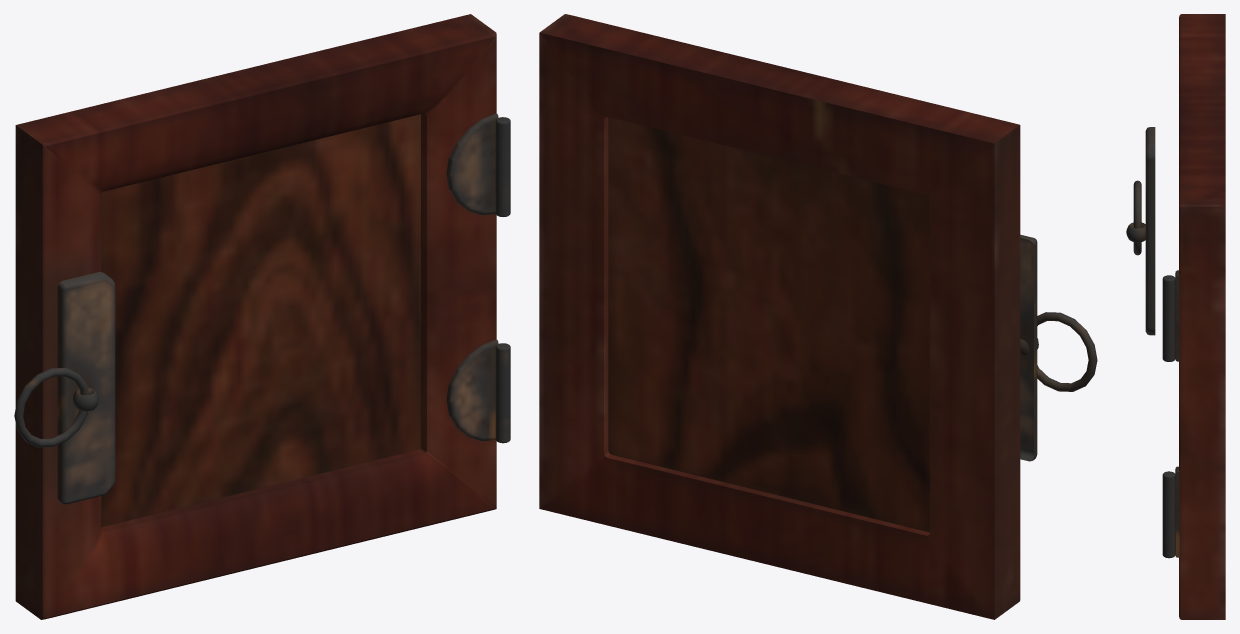
The model's file is SM_ThreetieredCupboard_door06.fbx.
The picture shows the model from 3 angles, left to right: view 1: azimuth 30°, elevation 25°; view 2: azimuth 150°, elevation 25°; view 3: azimuth 270°, elevation 25°; orthographic projection. The views are drawn at different scales.
Parts seen in each view (by area): view 1: SM_ThreetieredCupboard_door06; view 2: SM_ThreetieredCupboard_door06; view 3: SM_ThreetieredCupboard_door06.
Boxes of the visible parts, bbox=[...] form: SM_ThreetieredCupboard_door06: bbox=[14, 14, 510, 619]; SM_ThreetieredCupboard_door06: bbox=[539, 14, 1097, 619]; SM_ThreetieredCupboard_door06: bbox=[1126, 14, 1225, 619].
Size of the model in its own units: 32.59 by 28.92 by 6.3.
Materials: 1 (1 with a texture image).
